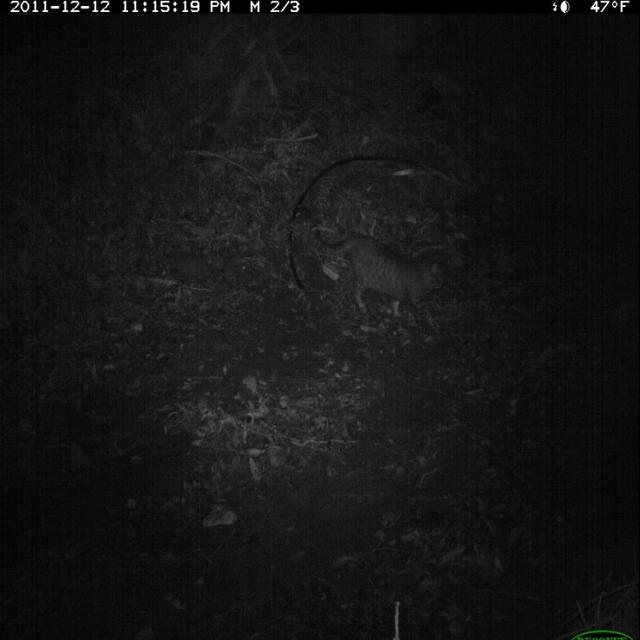cat: (313, 222, 455, 336)
